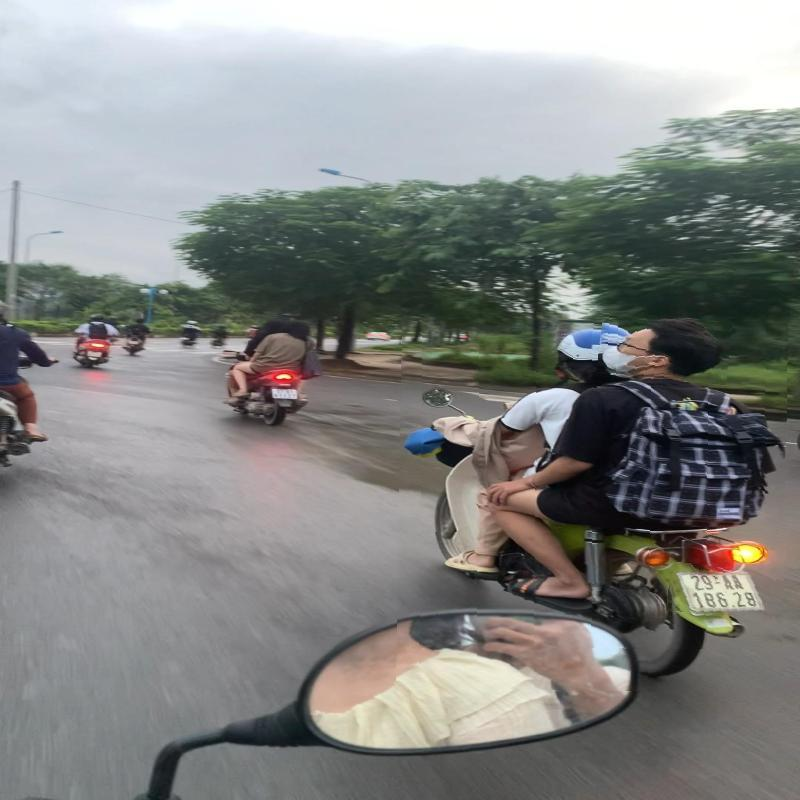helmet: (554, 326, 628, 374)
licenseplate: (668, 564, 776, 619)
motorcyclist: (397, 318, 786, 692)
nohelmet: (598, 314, 732, 382)
